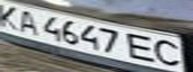4: (36, 13, 63, 42), (78, 22, 103, 52)
6: (57, 18, 81, 46)
7: (100, 25, 124, 55)
A: (12, 7, 42, 35)
C: (148, 37, 187, 69)
E: (124, 32, 160, 62)
K: (0, 1, 24, 30)
